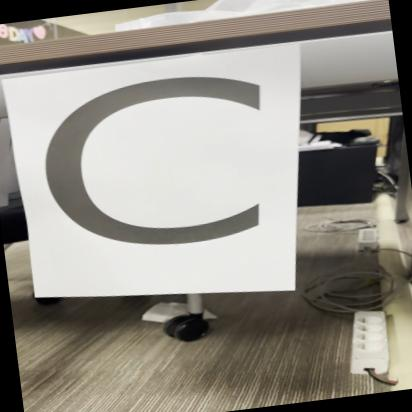seat: (30, 50, 316, 306)
